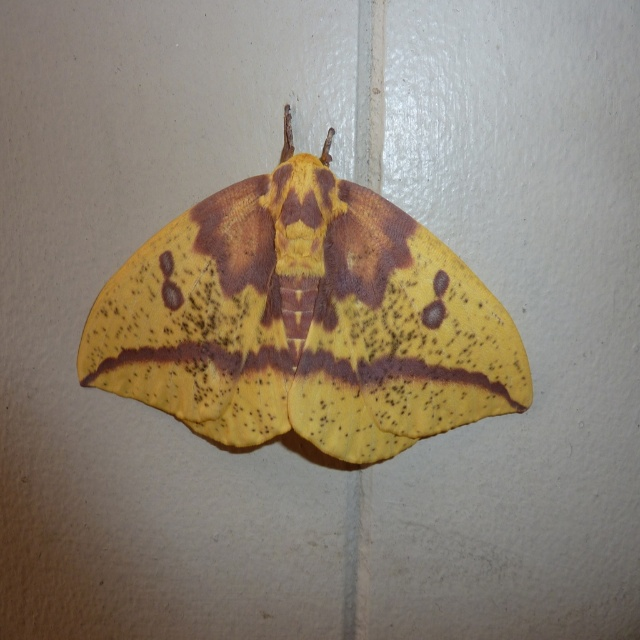Butterfly: (98, 89, 458, 448)
